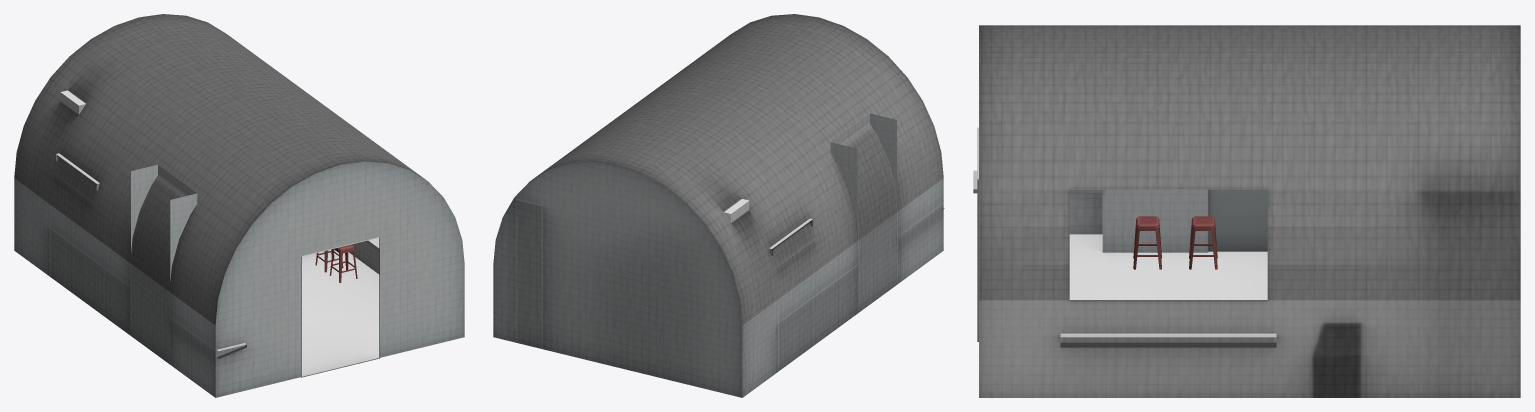
The model's file is coffeeshop.fbx.
3 renders of one model, left to right at view 1: azimuth 30°, elevation 25°; view 2: azimuth 150°, elevation 25°; view 3: azimuth 270°, elevation 25°, orthographic. The views are drawn at different scales.
Visible parts, largest first — view 1: base_2, base_1; view 2: base_2; view 3: base_2, base_1.
Part boxes in pixels (<box>): base_2: <box>14,14,464,397</box>; base_1: <box>315,244,357,282</box>; base_2: <box>493,14,944,397</box>; base_2: <box>973,25,1520,397</box>; base_1: <box>1133,216,1217,269</box>.
Bounding box in the file's own units: 4.77 × 3.63 × 6.59.
